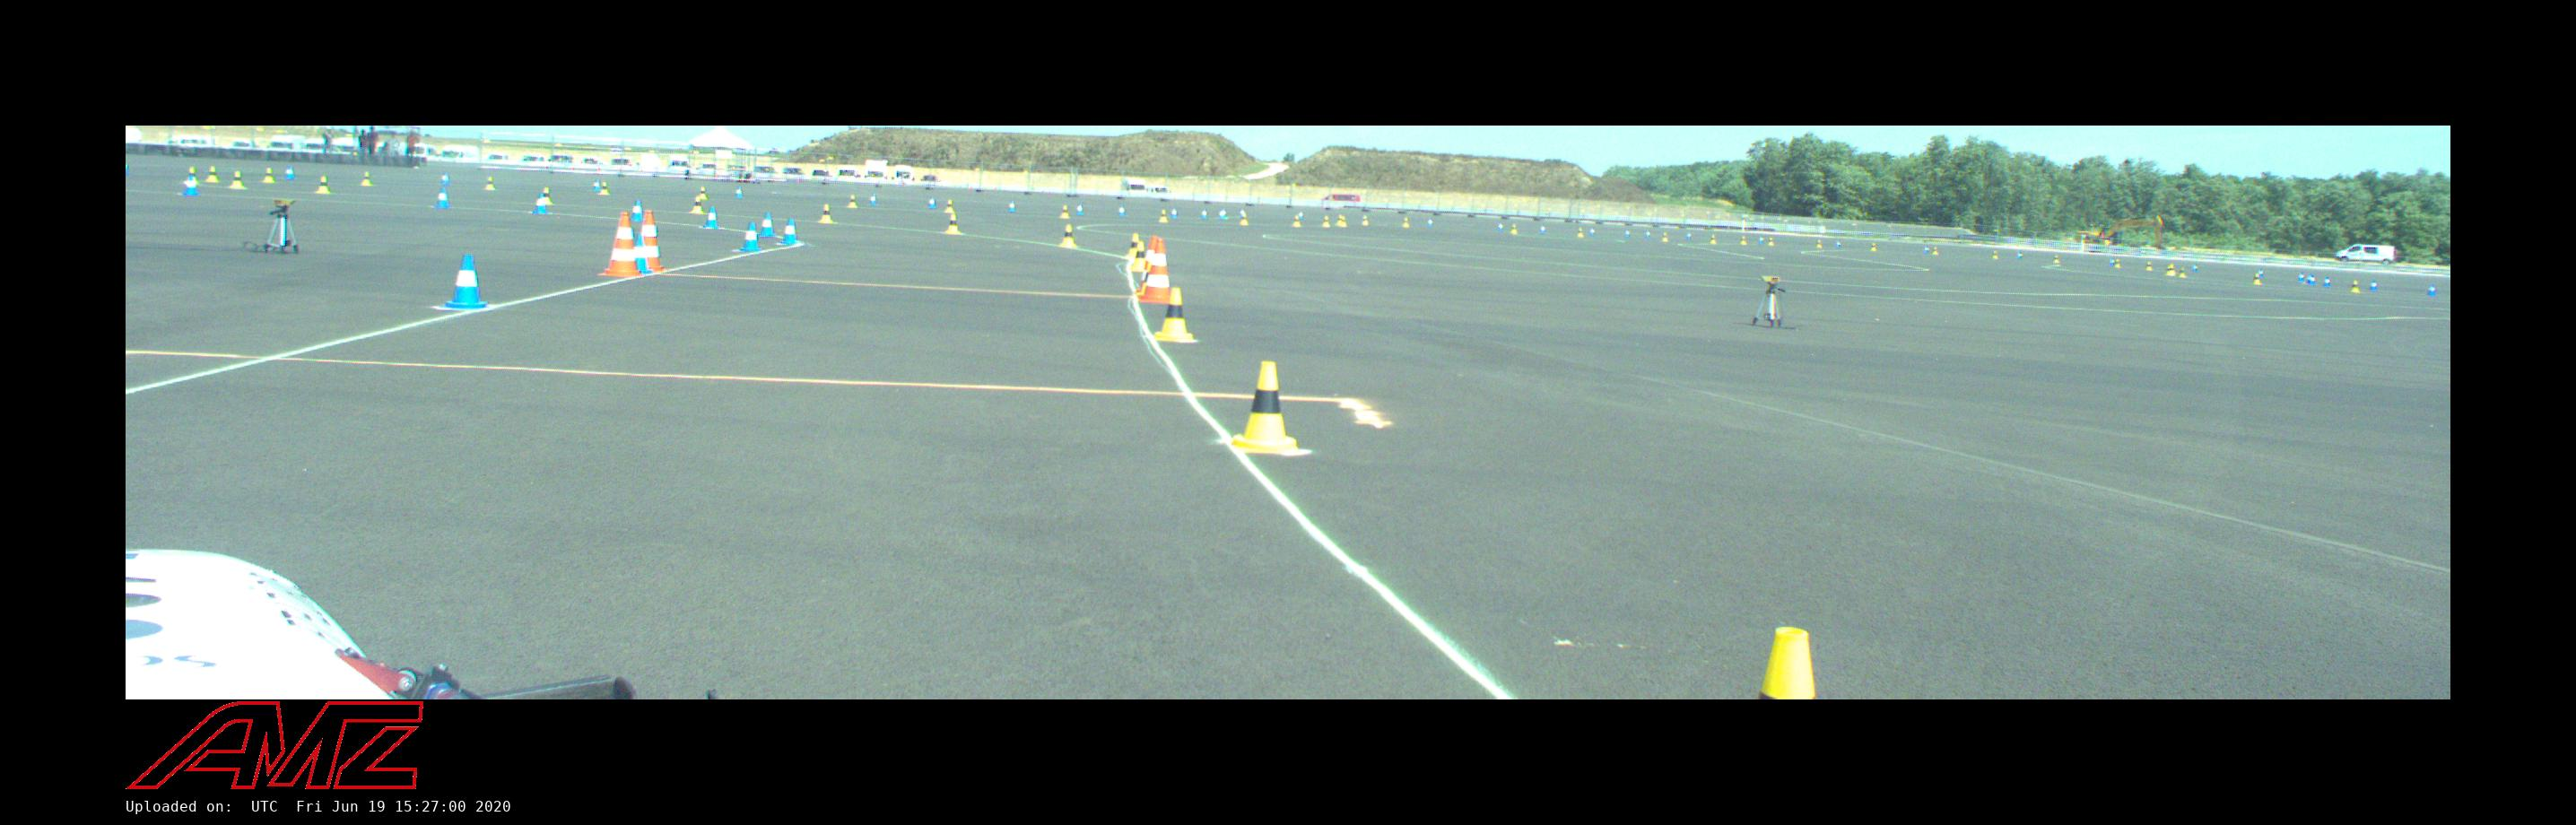blue_cone: (444, 251, 490, 307), (739, 222, 762, 251), (636, 235, 651, 273), (780, 219, 797, 243), (759, 212, 775, 237), (703, 205, 720, 228), (182, 174, 199, 196), (435, 189, 450, 207), (534, 194, 547, 212), (631, 200, 642, 220), (440, 173, 450, 184), (928, 196, 936, 209), (286, 166, 294, 179), (734, 186, 743, 197), (867, 194, 876, 205), (2427, 284, 2435, 296), (1076, 204, 1084, 214), (1009, 200, 1015, 212), (1170, 207, 1176, 219), (2369, 281, 2377, 289), (1201, 209, 1207, 219), (2298, 273, 2305, 281), (1119, 205, 1124, 215), (2325, 278, 2330, 286), (1539, 225, 1544, 233), (1221, 210, 1226, 219), (2017, 251, 2022, 258), (1924, 247, 1929, 253), (1835, 242, 1840, 248), (1498, 224, 1503, 230), (1646, 230, 1649, 238), (1760, 237, 1763, 243), (1687, 233, 1690, 240), (1625, 230, 1628, 237), (1590, 228, 1594, 235), (1428, 220, 1431, 227)
large_orange_cone: (598, 212, 642, 276), (1138, 238, 1170, 302), (642, 210, 665, 271), (1138, 237, 1157, 291)
yellow_cone: (1232, 362, 1301, 454), (1155, 288, 1194, 342), (1130, 240, 1145, 271), (1061, 224, 1076, 247), (946, 214, 961, 233), (820, 204, 833, 222), (1127, 233, 1137, 256), (690, 196, 703, 212), (317, 176, 330, 192), (232, 171, 245, 187), (205, 164, 218, 181), (264, 169, 276, 182), (544, 187, 552, 204), (848, 194, 858, 207), (600, 182, 609, 194), (361, 173, 371, 184), (1158, 210, 1168, 222), (1061, 205, 1069, 219), (486, 176, 494, 189), (2252, 273, 2261, 284), (946, 200, 953, 212), (1293, 215, 1299, 227), (2353, 281, 2359, 291), (1240, 214, 1247, 224), (1322, 217, 1329, 227), (2178, 268, 2185, 278), (1403, 219, 1410, 227), (1577, 228, 1584, 237), (2146, 261, 2152, 270), (1663, 232, 1667, 242), (1362, 217, 1368, 224), (1768, 238, 1774, 245), (2054, 256, 2060, 263), (1511, 224, 1516, 232), (1710, 235, 1715, 243), (1741, 237, 1746, 243), (1871, 243, 1876, 250), (1934, 248, 1939, 253)
